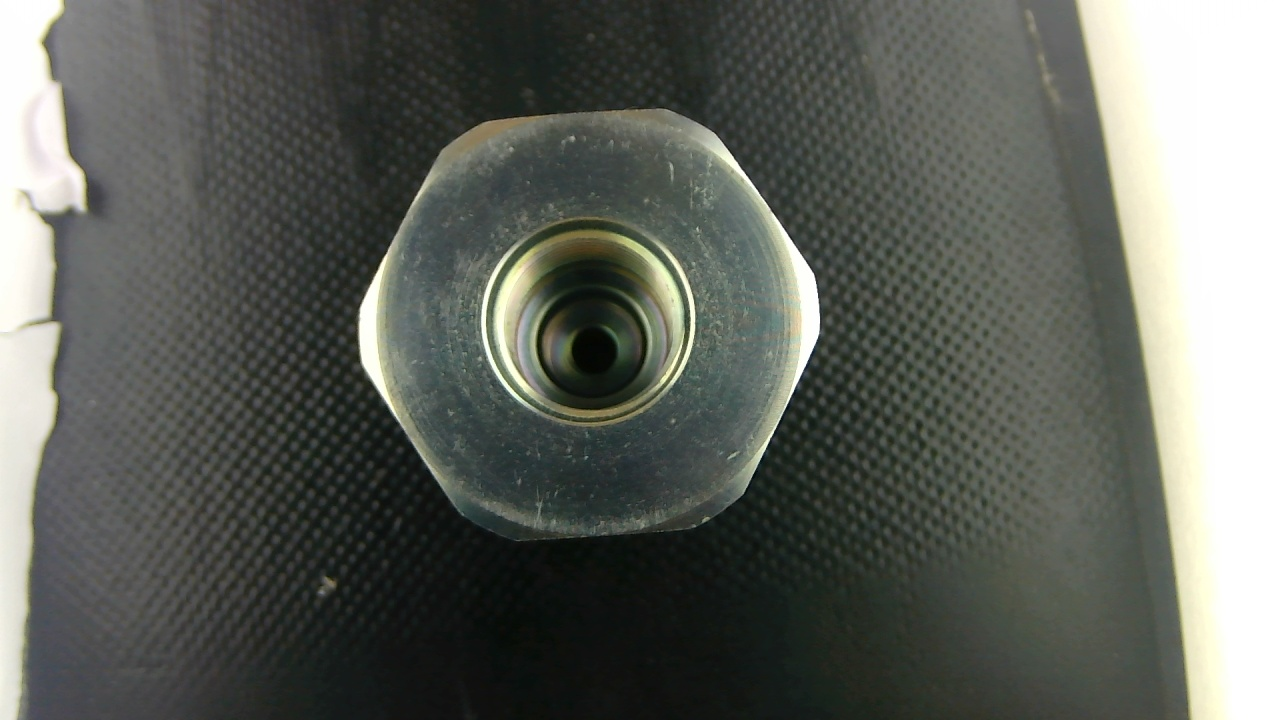Capnut_Okay: (359, 109, 818, 538)
